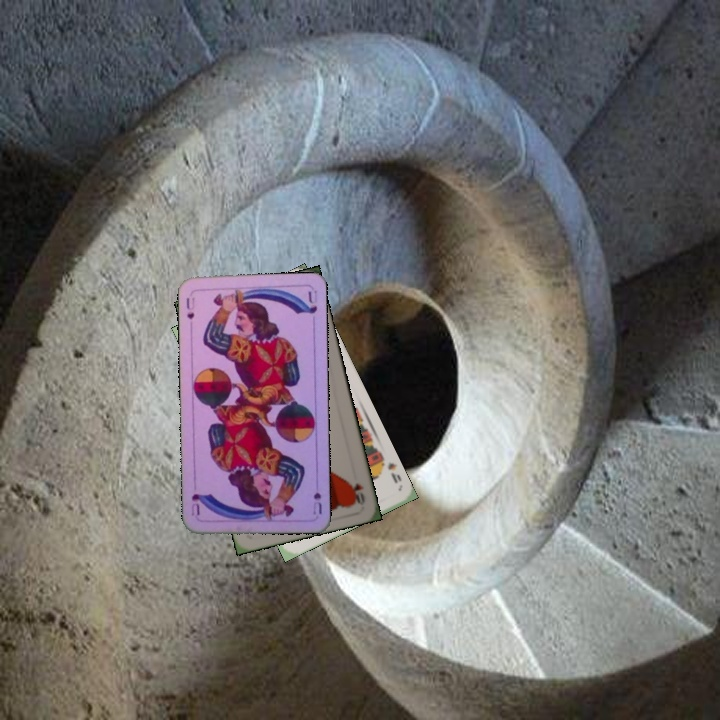HO: (349, 479, 367, 507)
S9: (375, 452, 404, 486)
SU: (309, 476, 324, 517), (182, 293, 197, 322)
